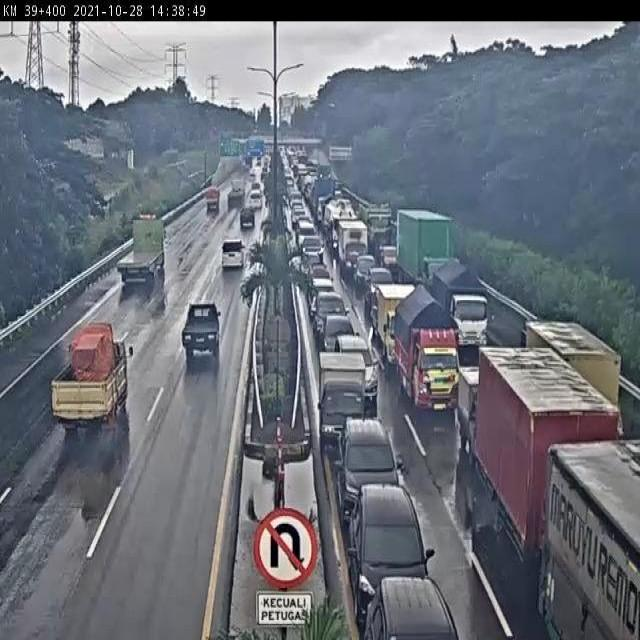big truck: (479, 345, 626, 595), (391, 205, 451, 298), (116, 216, 169, 288), (227, 176, 248, 209)
car: (349, 486, 436, 618), (335, 418, 399, 530), (363, 577, 460, 640), (335, 336, 380, 403), (319, 315, 360, 369), (312, 290, 350, 342), (367, 265, 395, 308), (309, 276, 334, 316), (220, 237, 247, 272), (355, 255, 376, 288), (237, 209, 256, 232)
small bus: (247, 188, 265, 209)
small truck: (527, 323, 620, 457), (50, 321, 134, 431), (393, 287, 462, 416), (458, 365, 521, 468), (432, 258, 496, 354), (317, 348, 369, 449), (377, 283, 420, 369), (182, 302, 220, 358), (339, 220, 369, 276), (203, 187, 222, 216)
